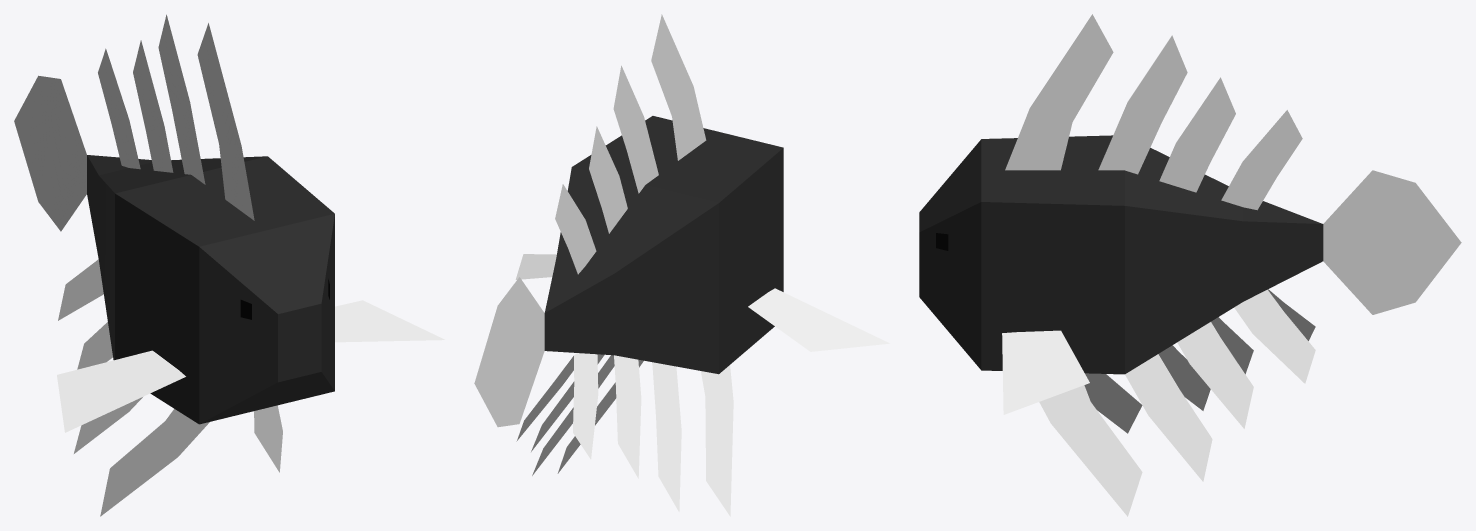
File: 18lionfish.fbx
The picture shows the model from 3 angles, left to right: view 1: azimuth 30°, elevation 25°; view 2: azimuth 150°, elevation 25°; view 3: azimuth 270°, elevation 25°; orthographic projection. The views are drawn at different scales.
Visible parts, largest first — view 1: Tropical Fish 18; view 2: Tropical Fish 18; view 3: Tropical Fish 18.
Boxes of the visible parts, left/top/right/bottom form: Tropical Fish 18: left=14, top=14, right=444, bottom=516; Tropical Fish 18: left=474, top=14, right=889, bottom=516; Tropical Fish 18: left=919, top=14, right=1461, bottom=516.
Bounding box in the file's own units: 210 × 257 × 273.
